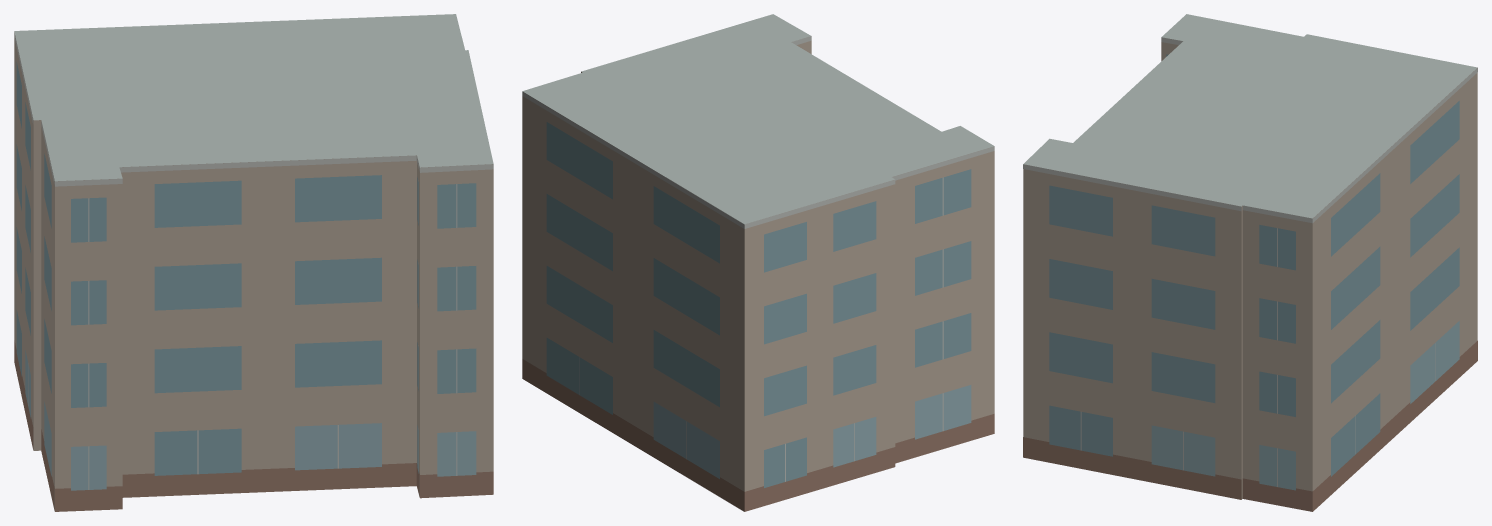
File: survey-upis-32620218.glb
The picture shows the model from 3 angles, left to right: view 1: azimuth 30°, elevation 25°; view 2: azimuth 150°, elevation 25°; view 3: azimuth 270°, elevation 25°; orthographic projection. The views are drawn at different scales.
Parts seen in each view (by area): view 1: survey-upis-32620218.tmp; view 2: survey-upis-32620218.tmp; view 3: survey-upis-32620218.tmp.
Boxes of the visible parts, left/top/right/bottom form: survey-upis-32620218.tmp: left=14, top=14, right=493, bottom=511; survey-upis-32620218.tmp: left=522, top=14, right=994, bottom=511; survey-upis-32620218.tmp: left=1023, top=14, right=1477, bottom=511.
Bounding box in the file's own units: 22.43 × 15 × 21.07.
